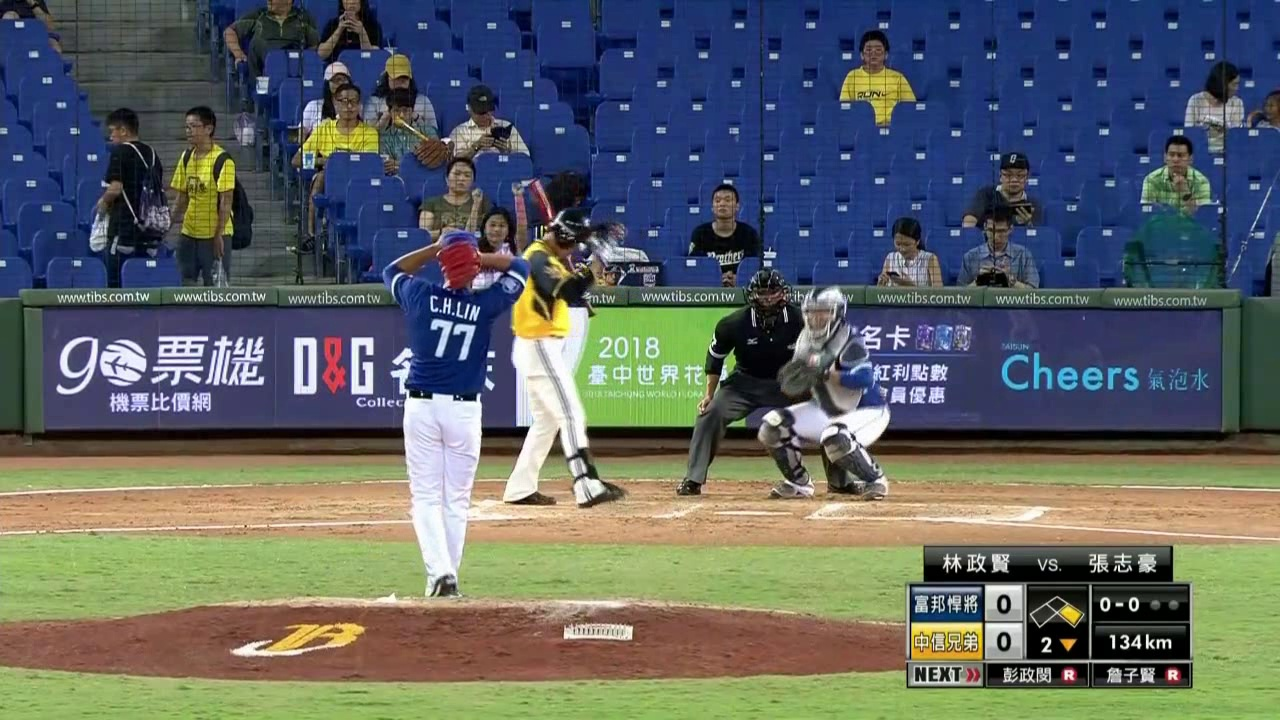base: (1026, 592, 1086, 630)
bat: (525, 176, 599, 323)
out: (1145, 589, 1183, 619)
score1: (986, 588, 1020, 619)
score2: (988, 625, 1020, 655)
session: (1029, 634, 1088, 659)
speed: (1094, 627, 1185, 656)
strikeball: (1094, 591, 1142, 622)
